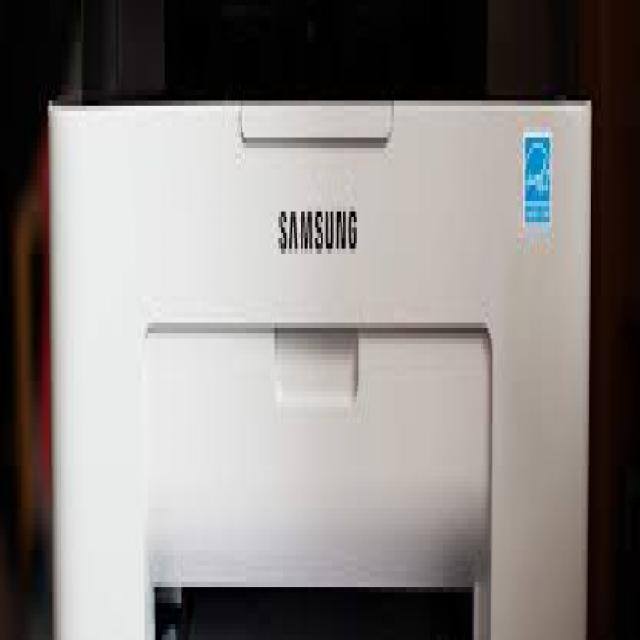printer: (32, 0, 607, 640)
